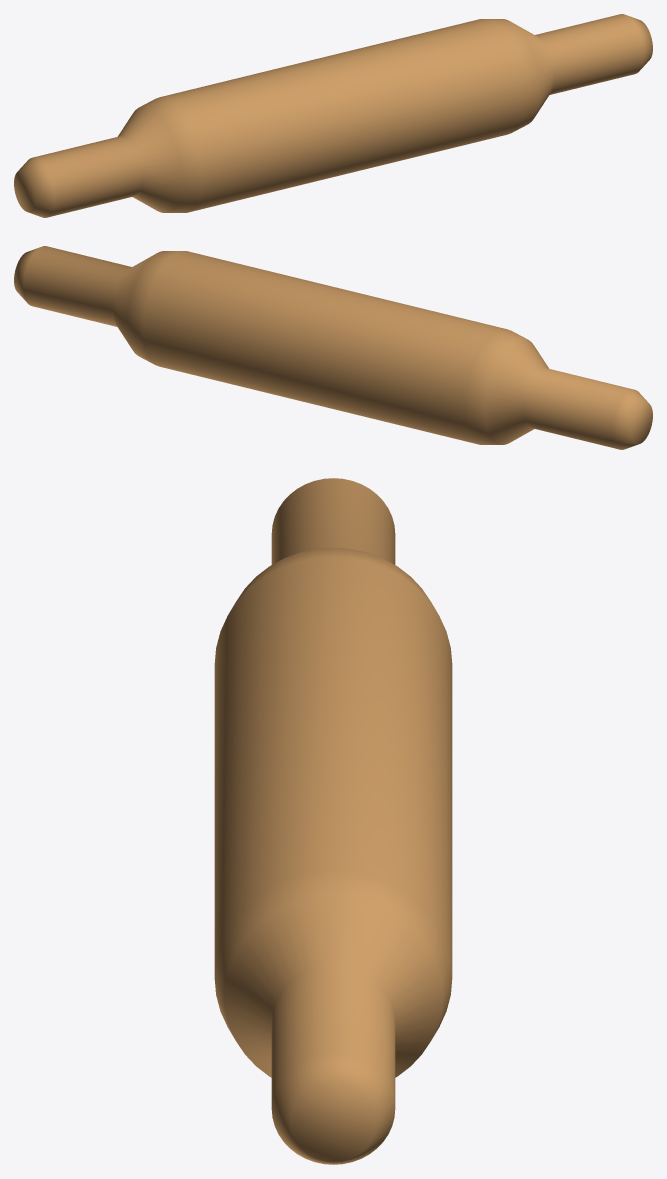
File: RollingPin.fbx
The picture shows the model from 3 angles, top to bottom: view 1: azimuth 30°, elevation 25°; view 2: azimuth 150°, elevation 25°; view 3: azimuth 270°, elevation 25°; orthographic projection. The views are drawn at different scales.
Visible parts, largest first — view 1: RollingPin; view 2: RollingPin; view 3: RollingPin.
Part boxes in pixels (x1,y1,x2,y2): RollingPin: [14, 14, 652, 217]; RollingPin: [14, 246, 652, 449]; RollingPin: [214, 478, 452, 1164].
Bounding box in the file's own units: 300 × 50 × 50.
